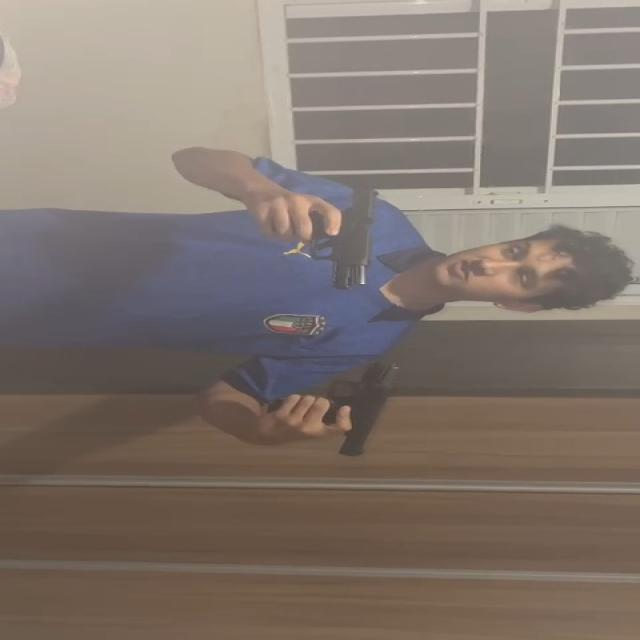guns: (327, 363, 403, 457), (320, 190, 378, 288)
